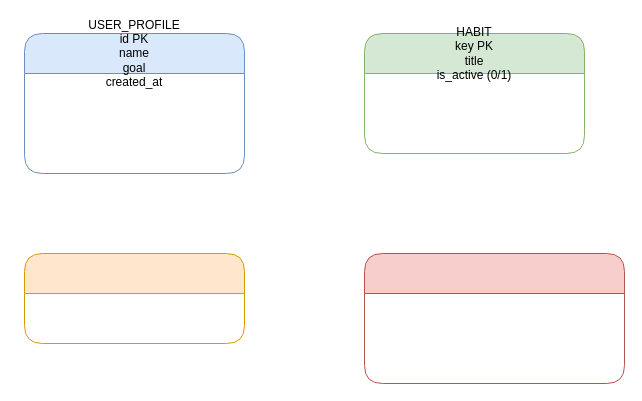
This 642x401 diagram has some shape labels left out. Here are the shapes that lost their labels. From the top down, the box of each, then its label:
(24, 252, 244, 344): DAY day_date PK
(364, 252, 624, 384): DAY_HABIT day_date FK habit_key FK done (0/1) PK(day_date,habit_key)
